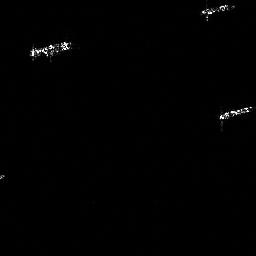ship: (28, 38, 73, 59), (218, 104, 254, 125), (199, 2, 235, 21)
